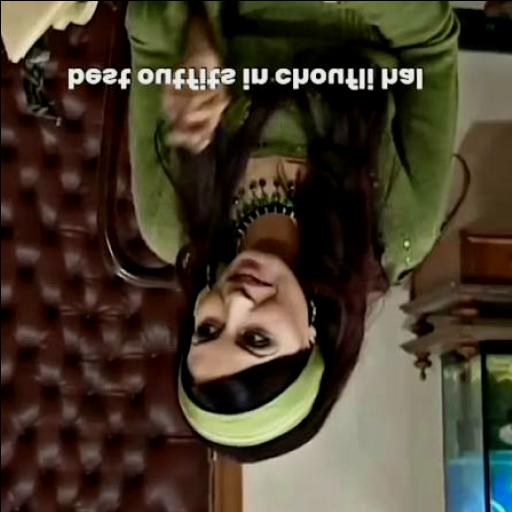Dalanda: (187, 236, 315, 384)
